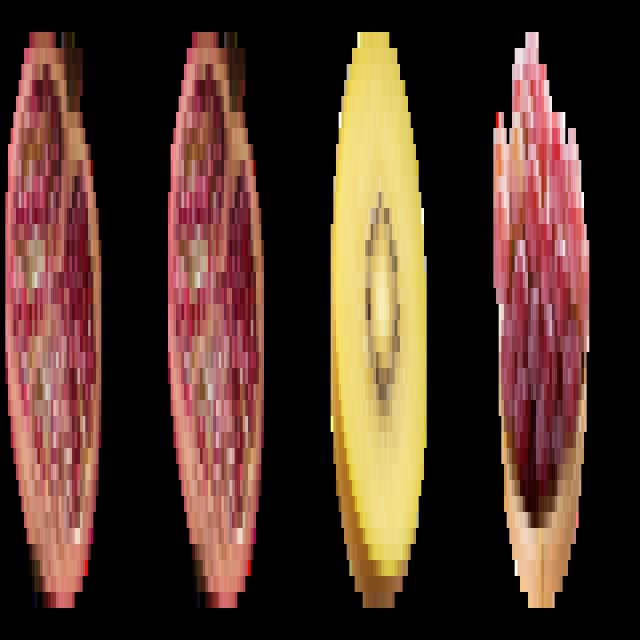grape: (488, 19, 592, 619)
kiwifruit: (330, 22, 430, 607)
pomegranate: (2, 13, 106, 622), (165, 13, 268, 624)
